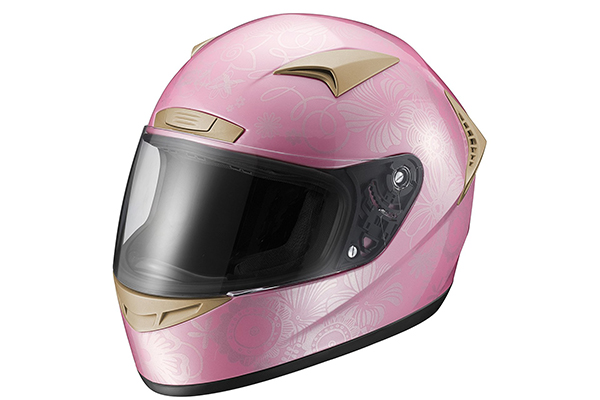with_helmet: (97, 5, 494, 398)
